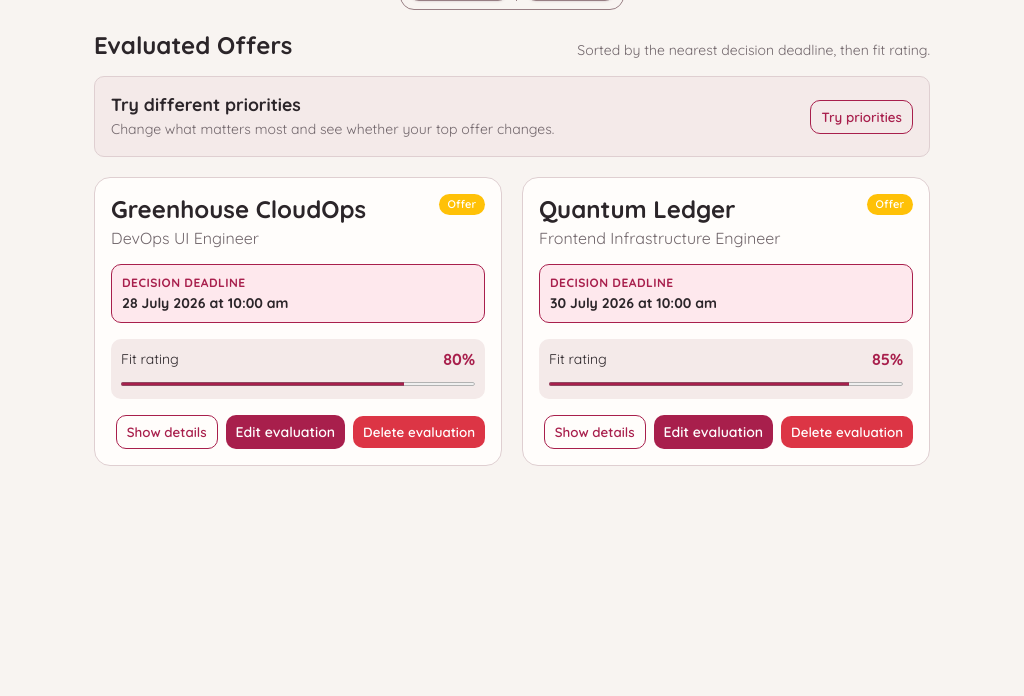
Test: demo page interactions › edits and saves one offer evaluation in demo state without fetching
Expected: the heading "Evaluated Offers" is shown, [94,30,292,60]
Step 1. Click the button with aria-label "Edit evaluation for Greenhouse CloudOps" → {"x": 285, "y": 432}, box [226,415,345,449]
(page scrolled)
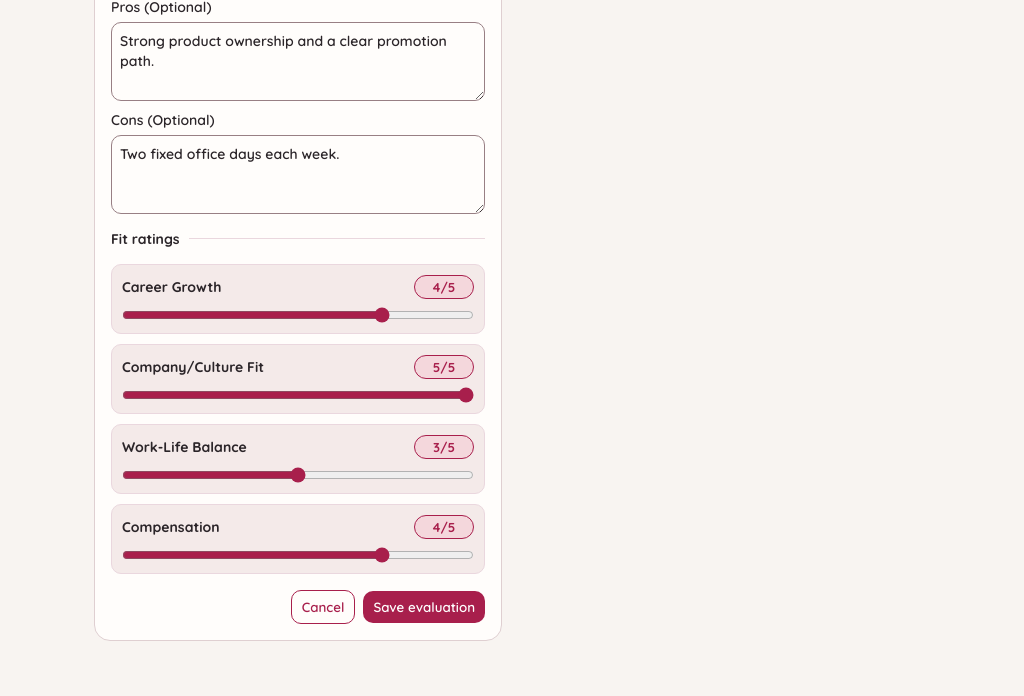
Now the slider named "Greenhouse CloudOps Company/Culture Fit rating" holds "5"
Step 2. Set the slider named "Greenhouse CloudOps Company/Culture Fit rating" to "4" → {"x": 382, "y": 395}, box [122,387,474,403]
(page scrolled)
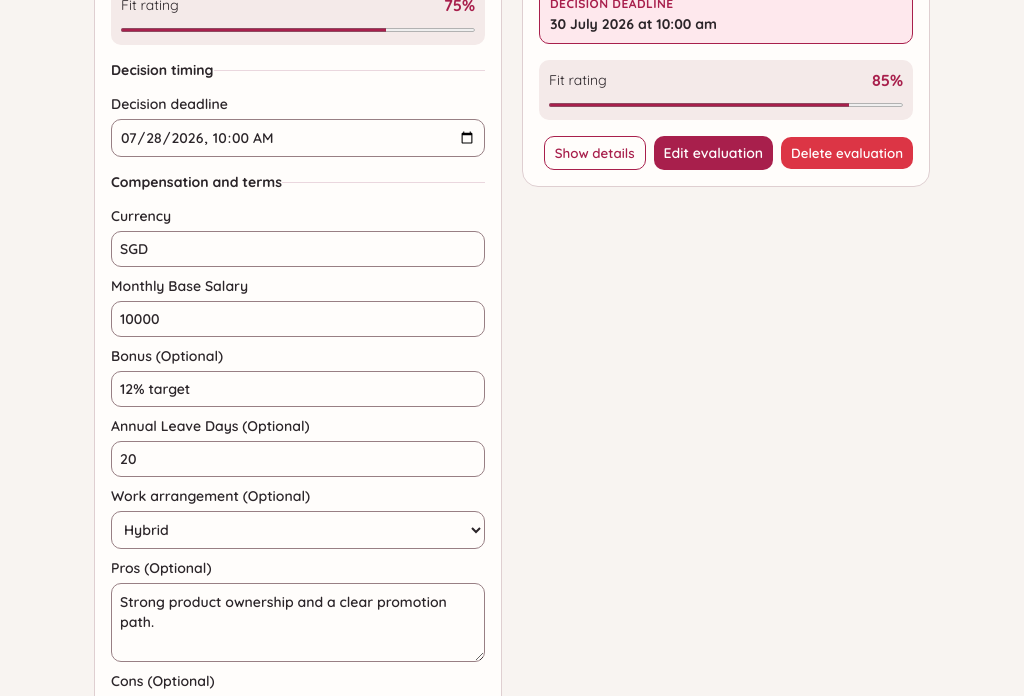
Step 3. Replace the text in the number field named "Greenhouse CloudOps monthly base salary" with "10500" → {"x": 298, "y": 319}, box [111,301,485,337]
(page scrolled)
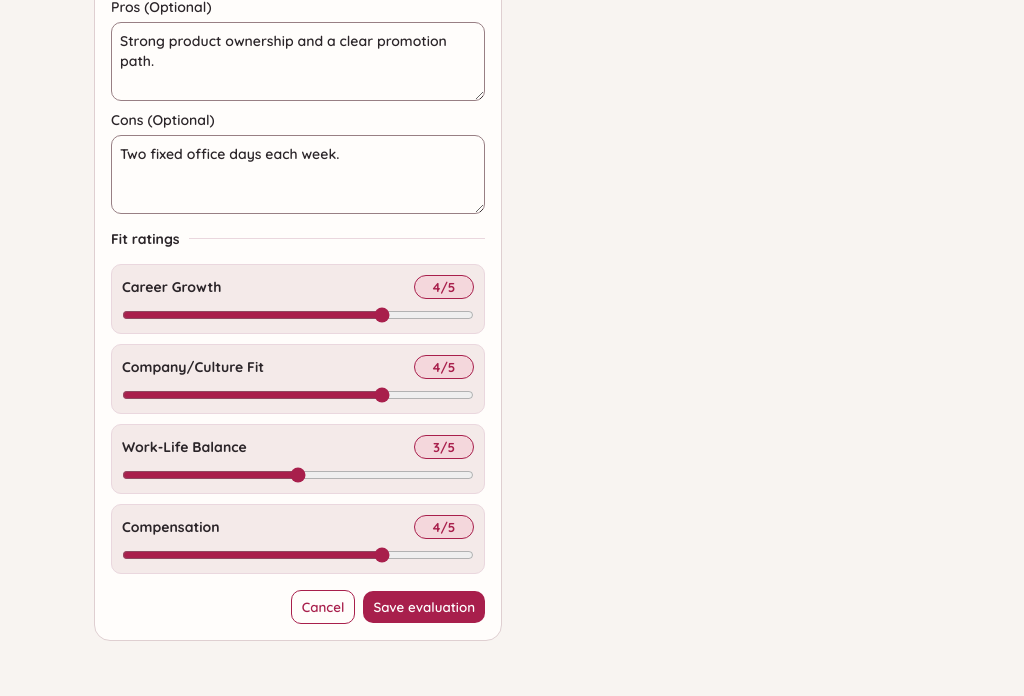
Step 4. Click the button with aria-label "Save evaluation for Greenhouse CloudOps" → {"x": 424, "y": 607}, box [363,591,485,623]
(page scrolled)
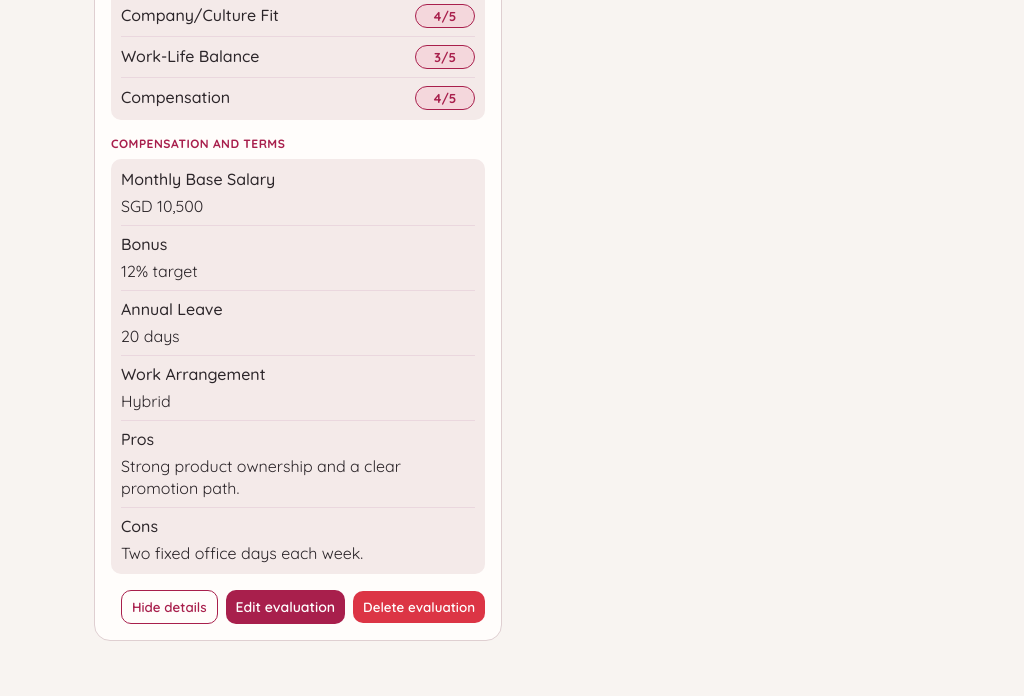
Now the text "SGD 10,500" is shown, box [121,196,203,216]
Now the button with aria-label "Edit evaluation for Greenhouse CloudOps" is shown, box [226,590,345,624]
